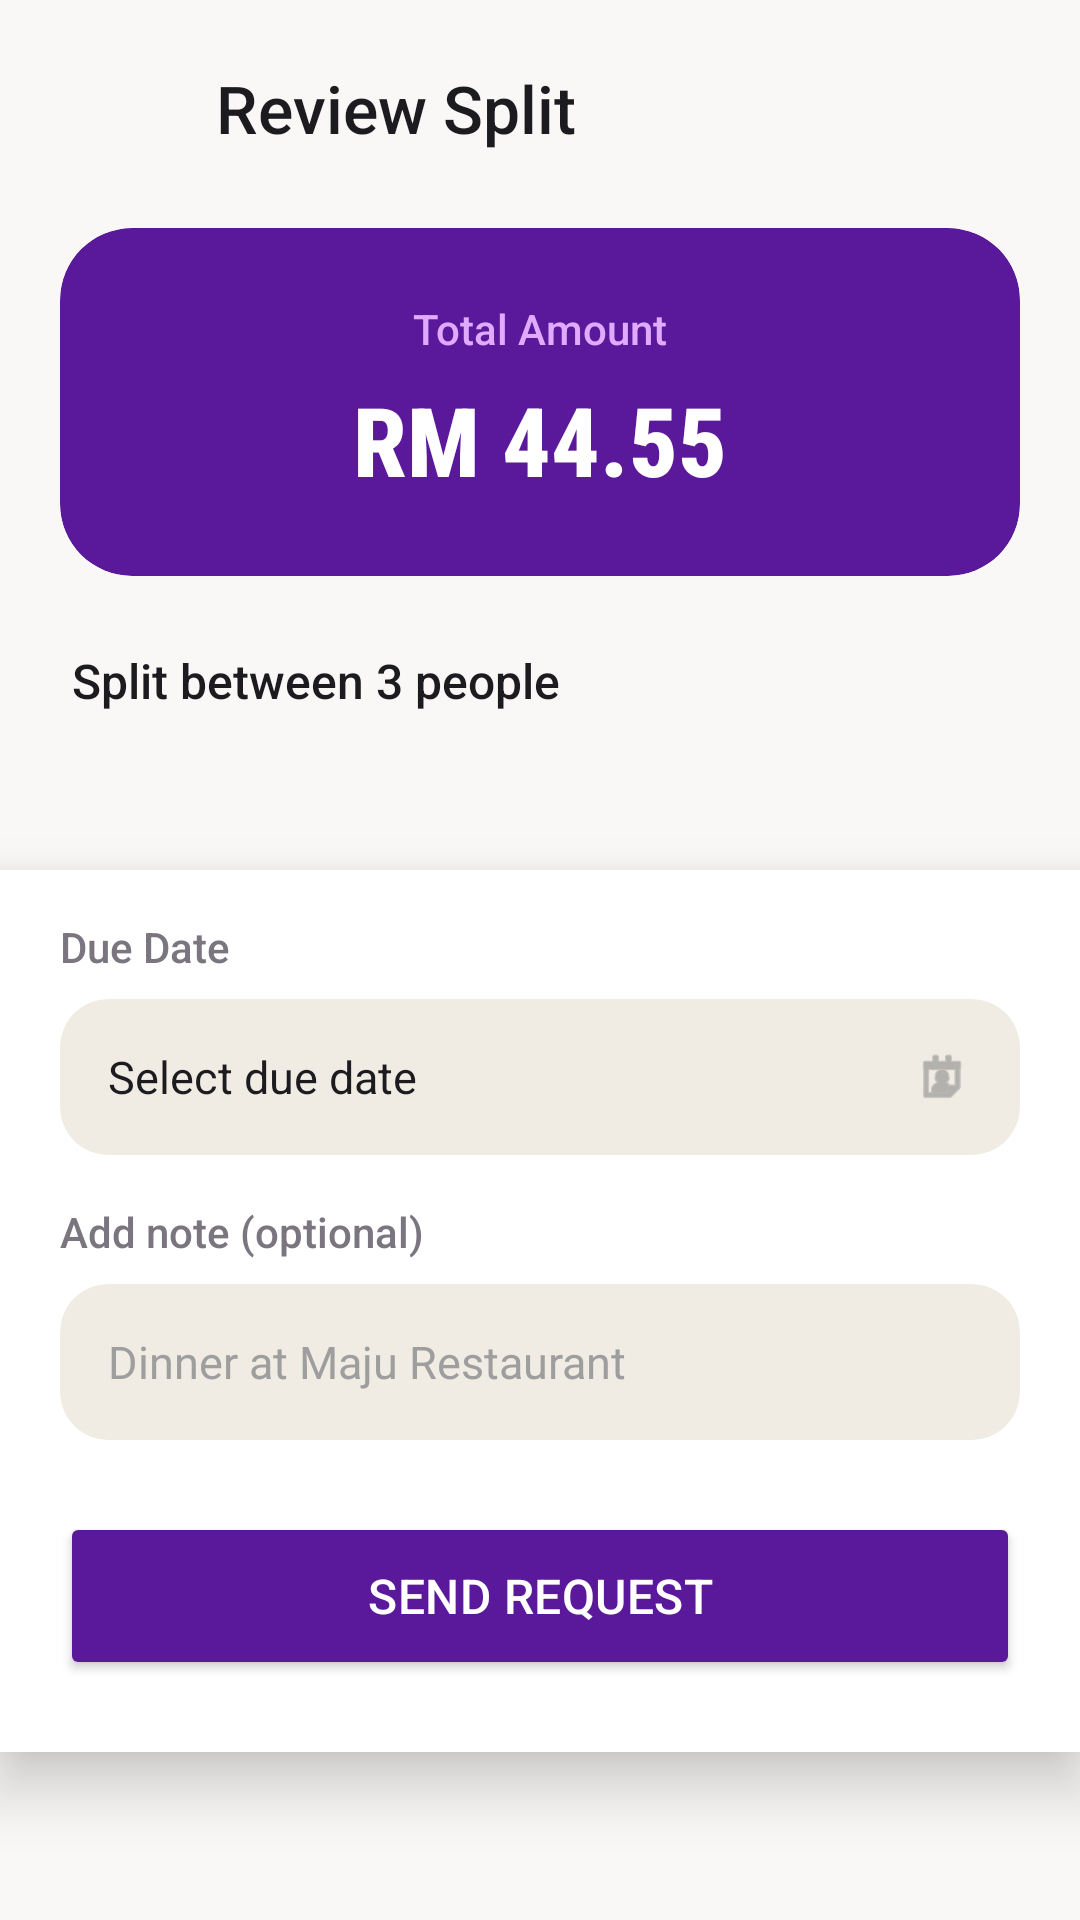

Icons on this 1080 x 1920 Android screen, each with the point to tap as (x=x, y=y):
calendar: (x=942, y=1076)
